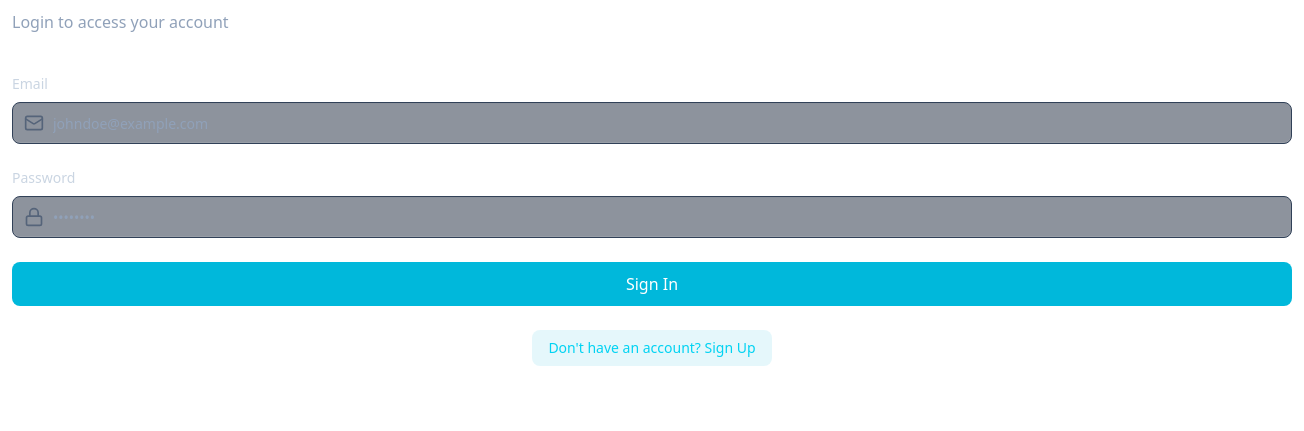
Test: LoginForm › shows validation errors for empty fields
Click the button "Sign In": [652, 284] box [12,262,1292,306]
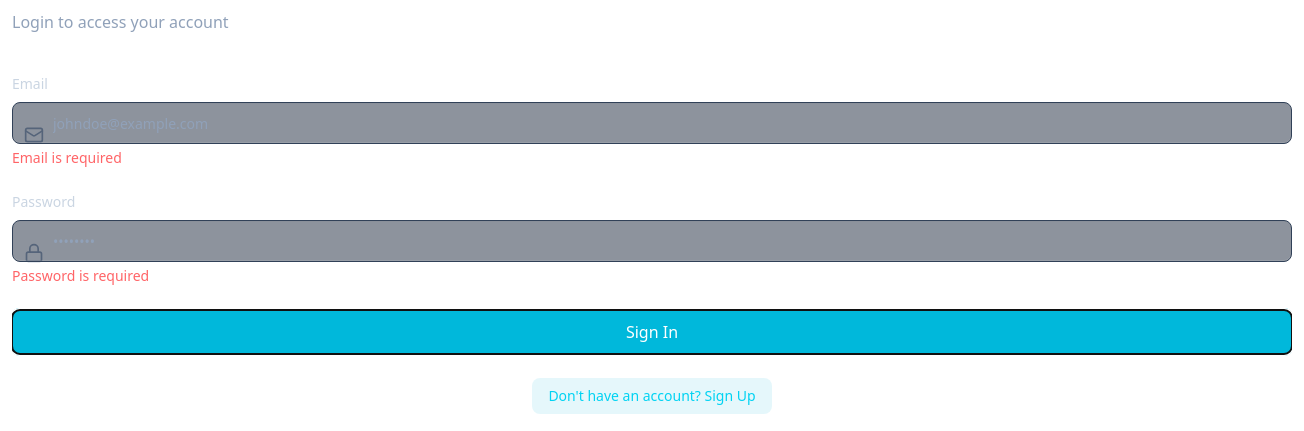
Result: the text "Email is required" is shown at [12,148,122,167]
Result: the text "Password is required" is shown at [12,266,149,285]
